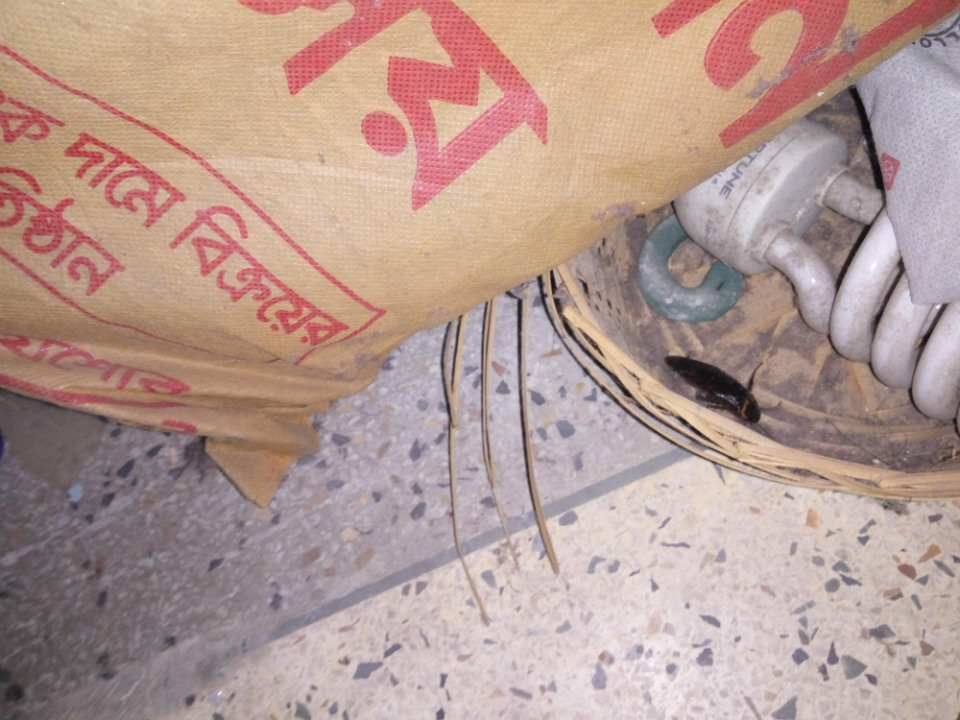cockroach: (644, 328, 778, 427)
